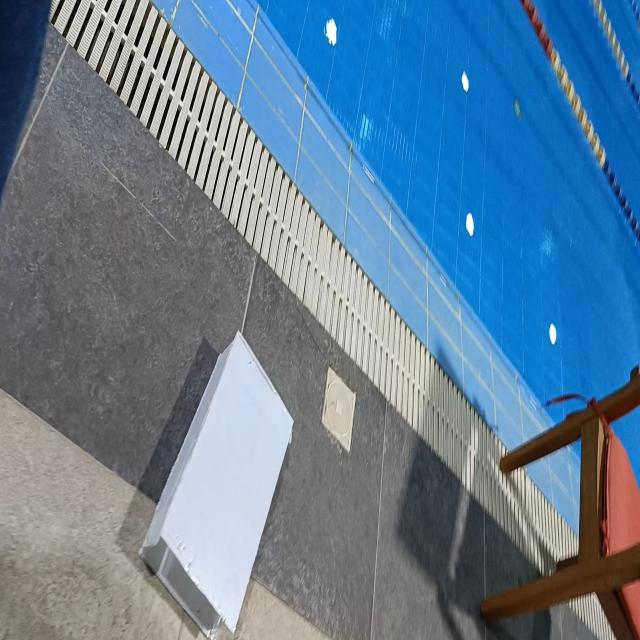Cuboid: (138, 328, 294, 637)
